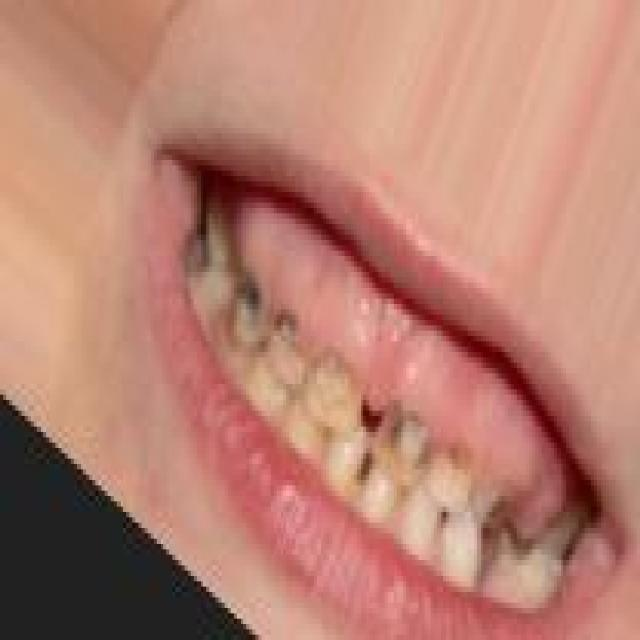caries: (373, 394, 433, 494), (311, 345, 362, 431), (429, 431, 477, 515), (267, 304, 308, 390), (229, 269, 267, 349)
